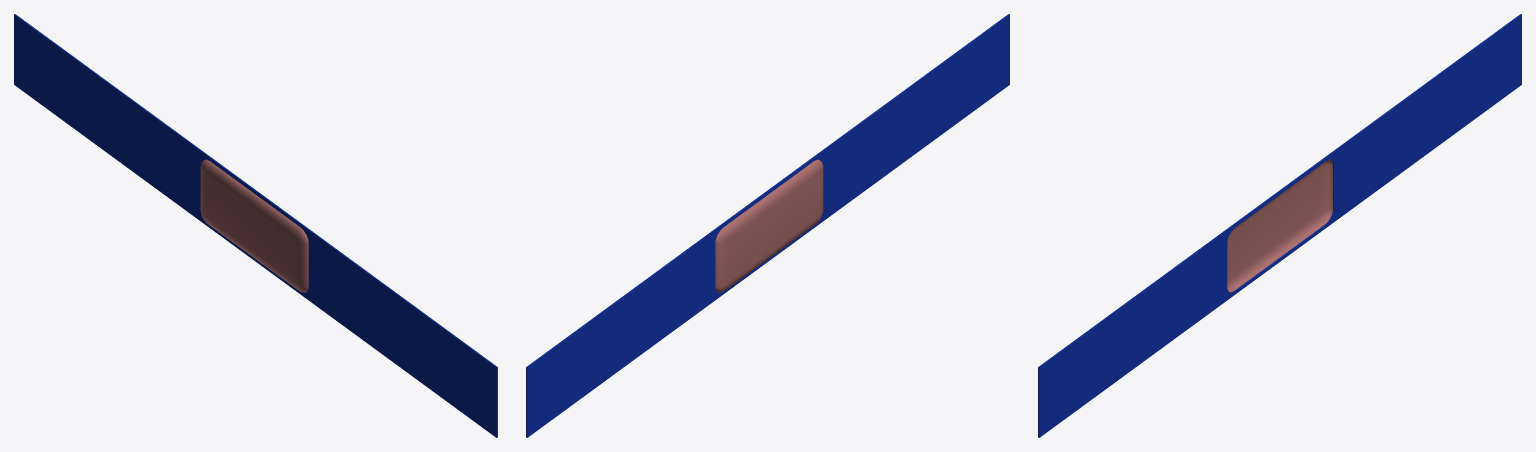
File: 5X63 Center Sq Window.FBX
The picture shows the model from 3 angles, left to right: view 1: azimuth 30°, elevation 25°; view 2: azimuth 150°, elevation 25°; view 3: azimuth 330°, elevation 25°; orthographic projection.
Parts seen in each view (by area): view 1: Box035; view 2: Box035; view 3: Box035.
Part boxes in pixels (x1,y1,x2,y2): Box035: (14,14,497,437); Box035: (526,14,1009,437); Box035: (1038,14,1521,437).
Bounding box in the file's own units: 0.4694 × 5 × 62.01.
